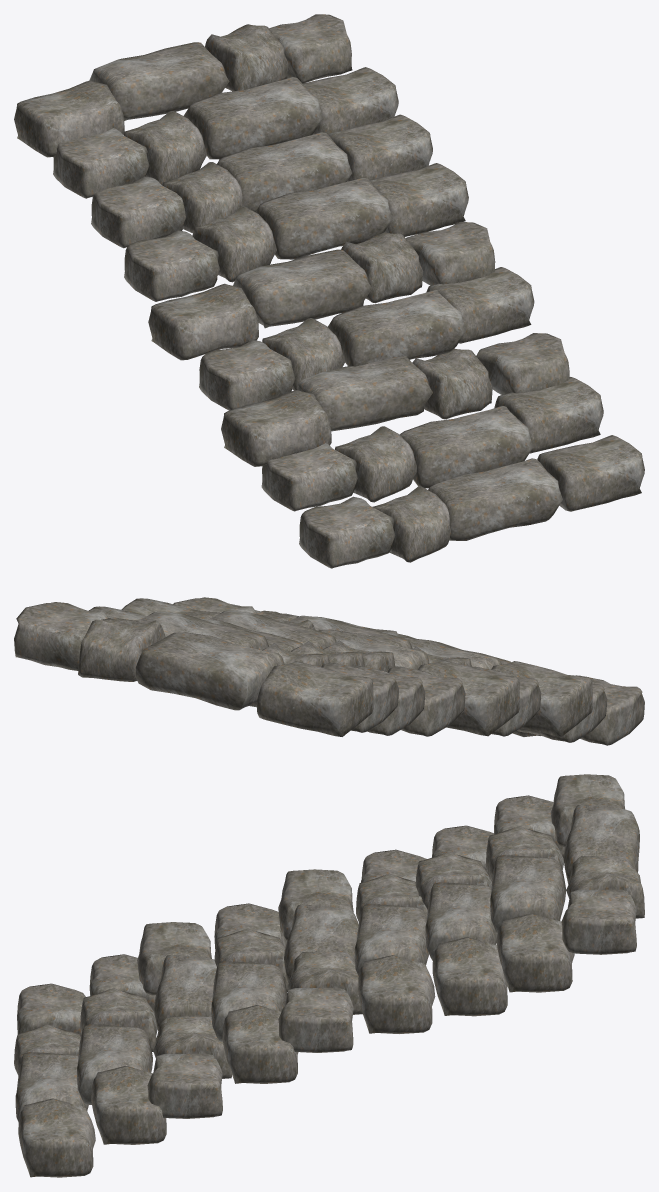
File: Steps.fbx
The picture shows the model from 3 angles, top to bottom: view 1: azimuth 30°, elevation 25°; view 2: azimuth 150°, elevation 25°; view 3: azimuth 270°, elevation 25°; orthographic projection. The views are drawn at different scales.
Visible parts, largest first — view 1: Steps; view 2: Steps; view 3: Steps.
Part boxes in pixels (x1,y1,x2,y2): Steps: [14, 14, 644, 568]; Steps: [14, 597, 644, 745]; Steps: [14, 774, 644, 1177].
Size of the model in its own units: 2.2 by 1.72 by 3.63.
